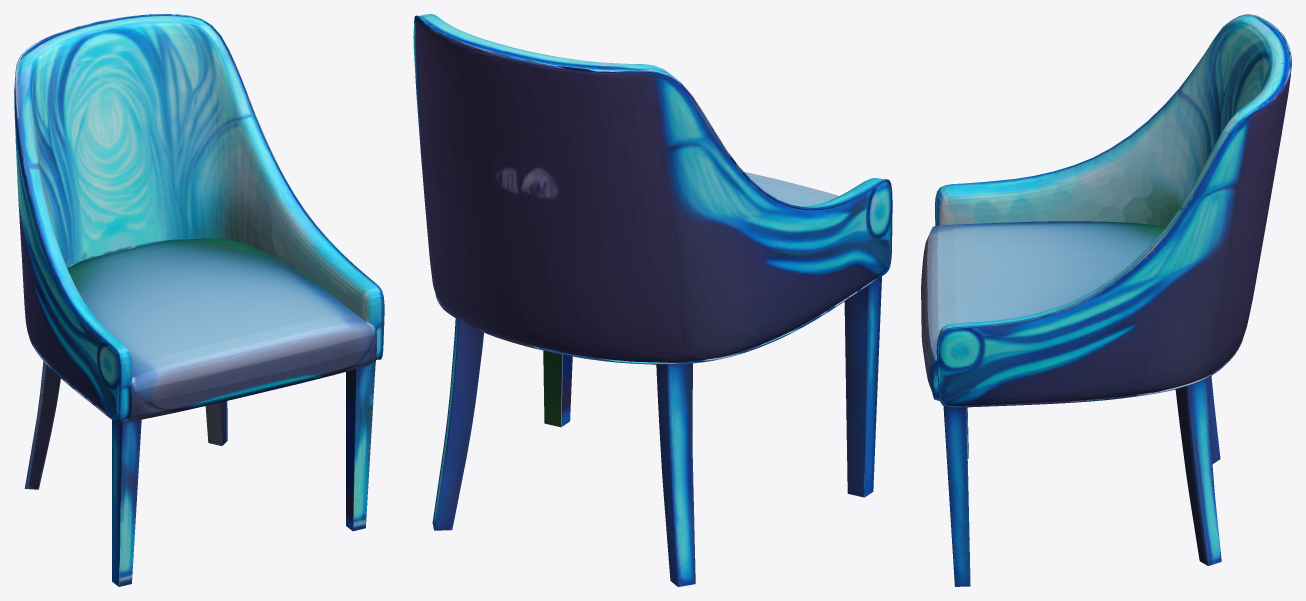
File: edited_mesh.glb
3 renders of one model, left to right at view 1: azimuth 30°, elevation 25°; view 2: azimuth 150°, elevation 25°; view 3: azimuth 270°, elevation 25°, orthographic. The views are drawn at different scales.
Parts seen in each view (by area): view 1: solid_001_wire; view 2: solid_001_wire; view 3: solid_001_wire.
Part boxes in pixels (bbox=[...]): solid_001_wire: bbox=[14, 14, 384, 586]; solid_001_wire: bbox=[413, 14, 892, 586]; solid_001_wire: bbox=[921, 14, 1291, 586].
Size of the model in its own units: 0.9742 by 1.47 by 1.07.
Materials: 1 (1 with a texture image).
